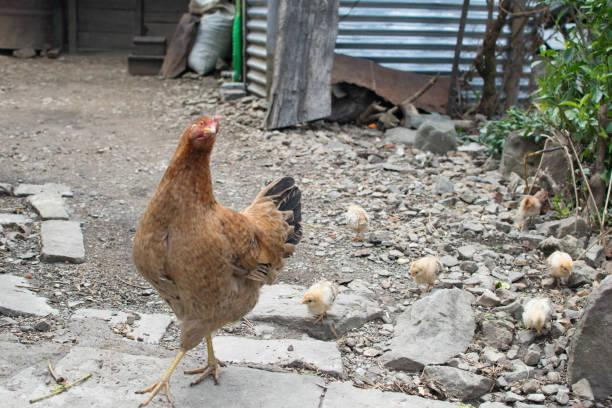AbNormal: (121, 103, 302, 408)
